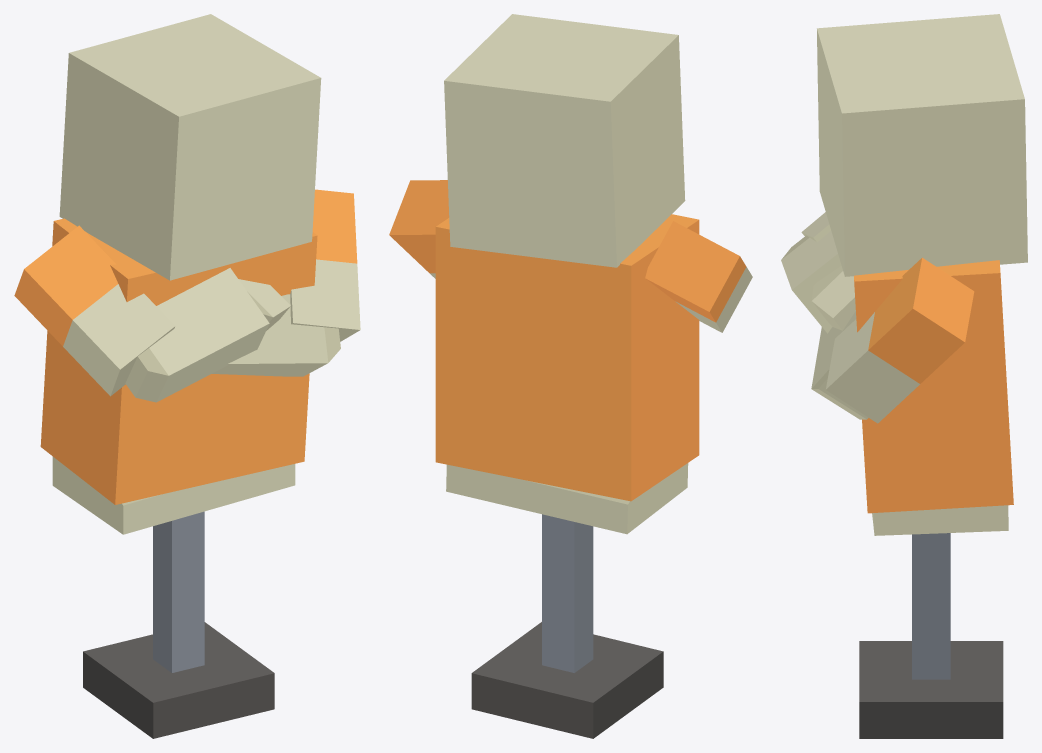
Rendered from Mannequin6.glb.
3 views of the same model, side by side, from view 1: azimuth 30°, elevation 25°; view 2: azimuth 150°, elevation 25°; view 3: azimuth 270°, elevation 25° (orthographic). The views are drawn at different scales.
Parts seen in each view (by area): view 1: SI_Prop_Mannequin_07; view 2: SI_Prop_Mannequin_07; view 3: SI_Prop_Mannequin_07.
Boxes of the visible parts, <box> form: SI_Prop_Mannequin_07: <box>14,14,360,738</box>; SI_Prop_Mannequin_07: <box>389,14,752,738</box>; SI_Prop_Mannequin_07: <box>781,14,1027,738</box>.
Size of the model in its own units: 0.015 by 0.0279 by 0.0095.
1 material, 1 textured.
